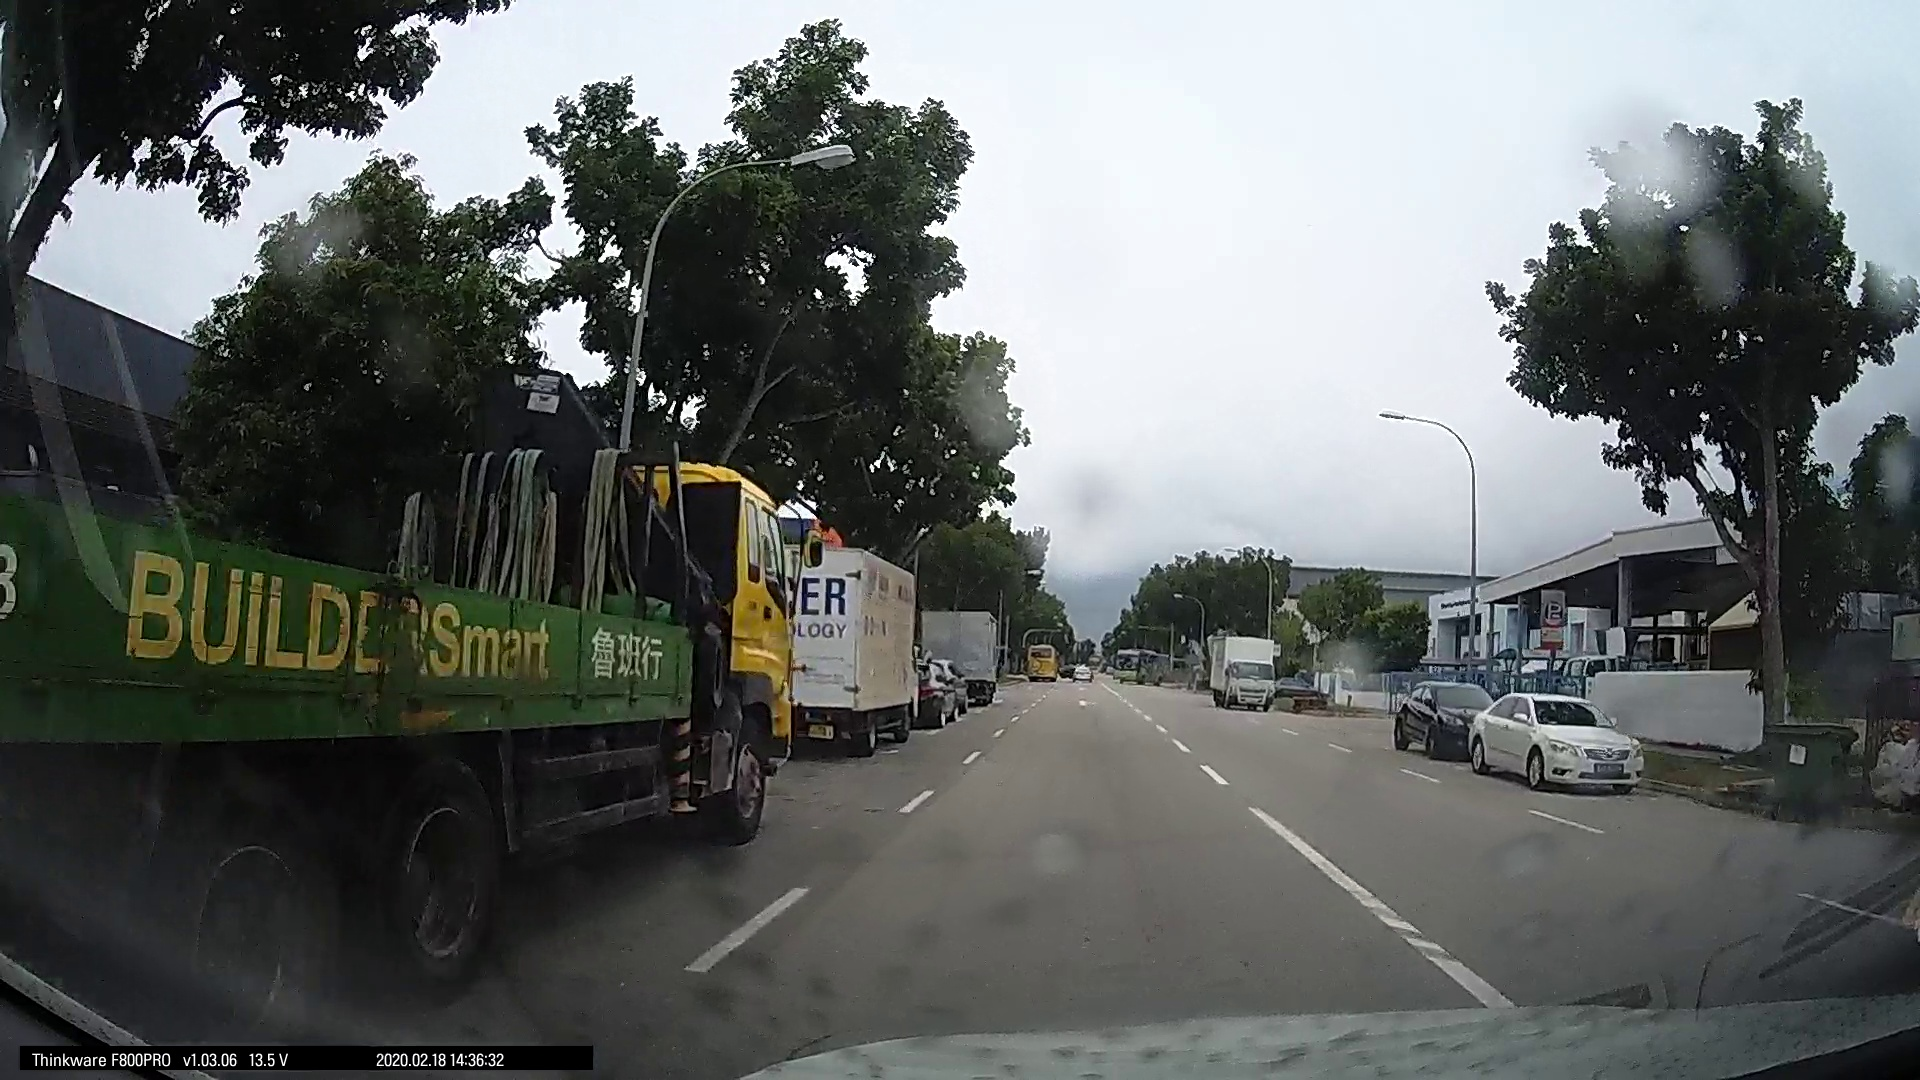Heavy Vehicle: (145, 587, 208, 663)
Light Vehicle: (1102, 702, 1892, 1010), (680, 673, 1055, 841), (351, 613, 512, 736), (241, 616, 349, 694)
Motorcycle: (111, 593, 165, 702)
